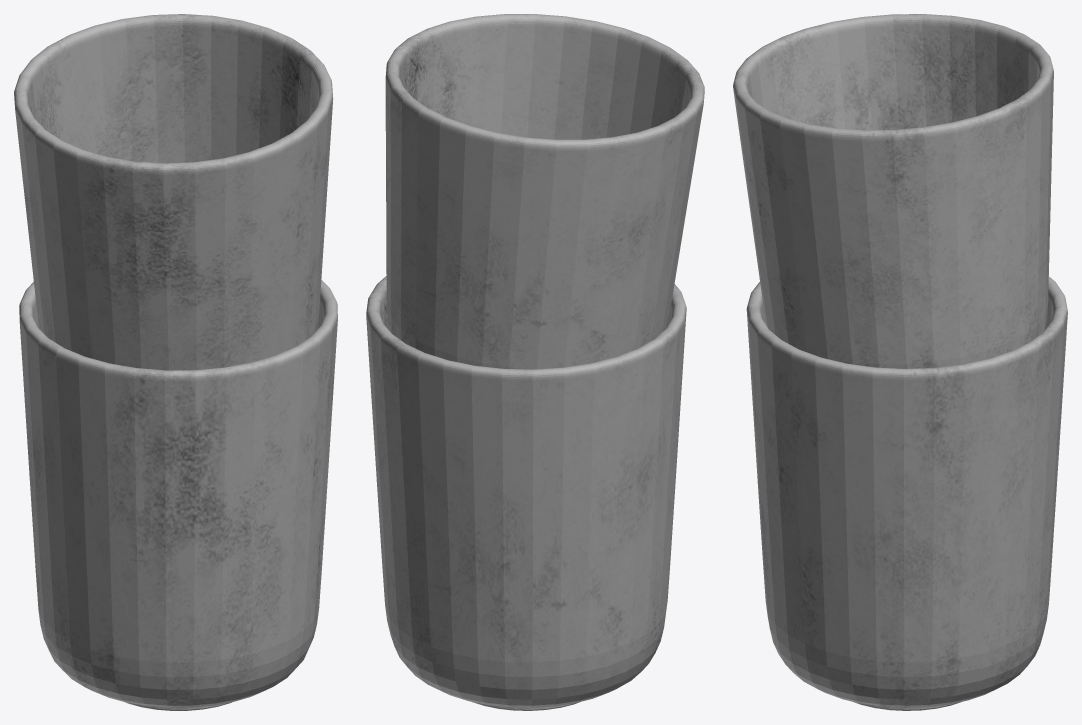
The model's file is water-glasses.obj.
3 views of the same model, side by side, from view 1: azimuth 30°, elevation 25°; view 2: azimuth 150°, elevation 25°; view 3: azimuth 270°, elevation 25° (orthographic).
Visible parts, largest first — view 1: Kitchenware_152; view 2: Kitchenware_152; view 3: Kitchenware_152.
Boxes of the visible parts, x1,y1,x2,y2 form: Kitchenware_152: (14,14,337,710); Kitchenware_152: (366,14,704,710); Kitchenware_152: (733,14,1067,710).
Bounding box in the file's own units: 9.37 × 18.79 × 9.37.
Materials: 1 (1 with a texture image).
